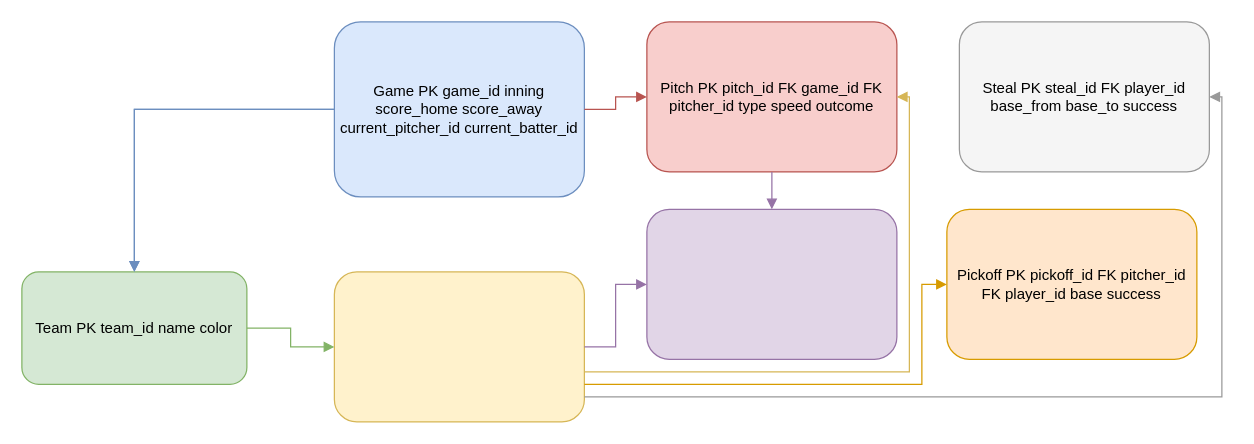
Image size: 1254x444. Some labels were removed from this diagram. The centre of each missing label's shape, as x and y in pixels:
"Hit PK hit_id FK pitch_id FK batter_id hit_type distance" belongs at (x=771, y=283).
"Player PK player_id FK team_id name position batting_average running_speed" belongs at (x=458, y=346).
